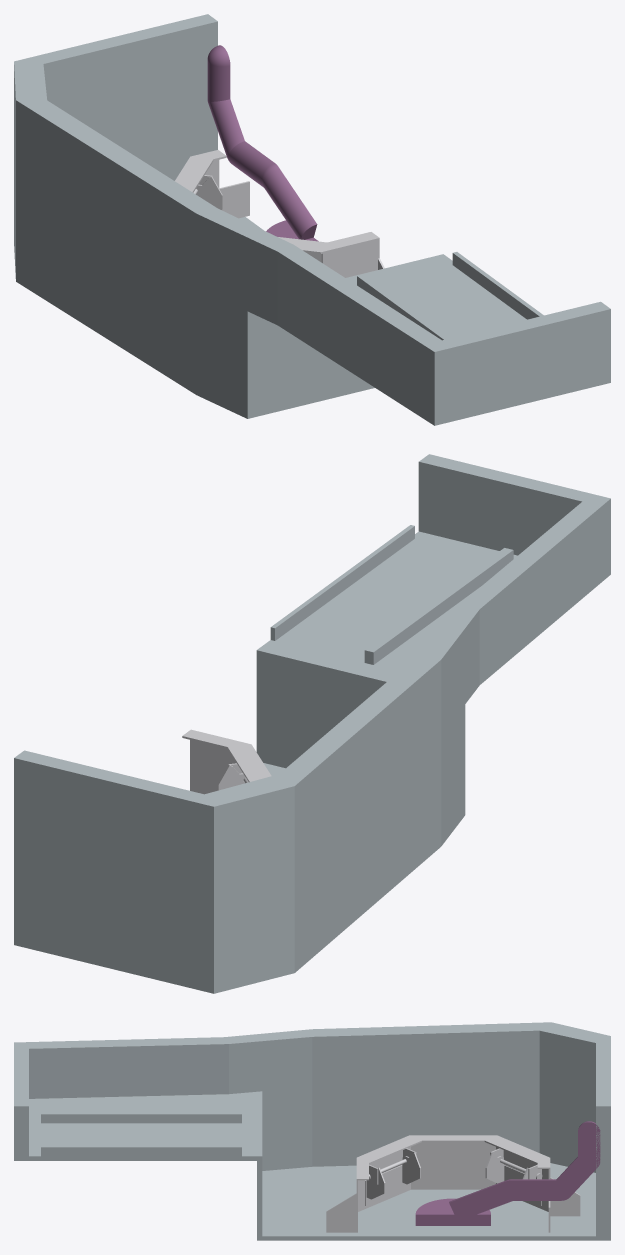
The model's file is radial_pan_section.glb.
The picture shows the model from 3 angles, top to bottom: view 1: azimuth 30°, elevation 25°; view 2: azimuth 150°, elevation 25°; view 3: azimuth 270°, elevation 25°; orthographic projection. The views are drawn at different scales.
Visible parts, largest first — view 1: radial_pan_section (×3); view 2: radial_pan_section (×2); view 3: radial_pan_section (×3).
Boxes of the visible parts, x1,y1,x2,y2 form: radial_pan_section (×3): (14, 14, 610, 425); radial_pan_section (×2): (14, 454, 610, 993); radial_pan_section (×3): (14, 1022, 610, 1240).
Size of the model in its own units: 0.158 by 0.118 by 0.4747.
